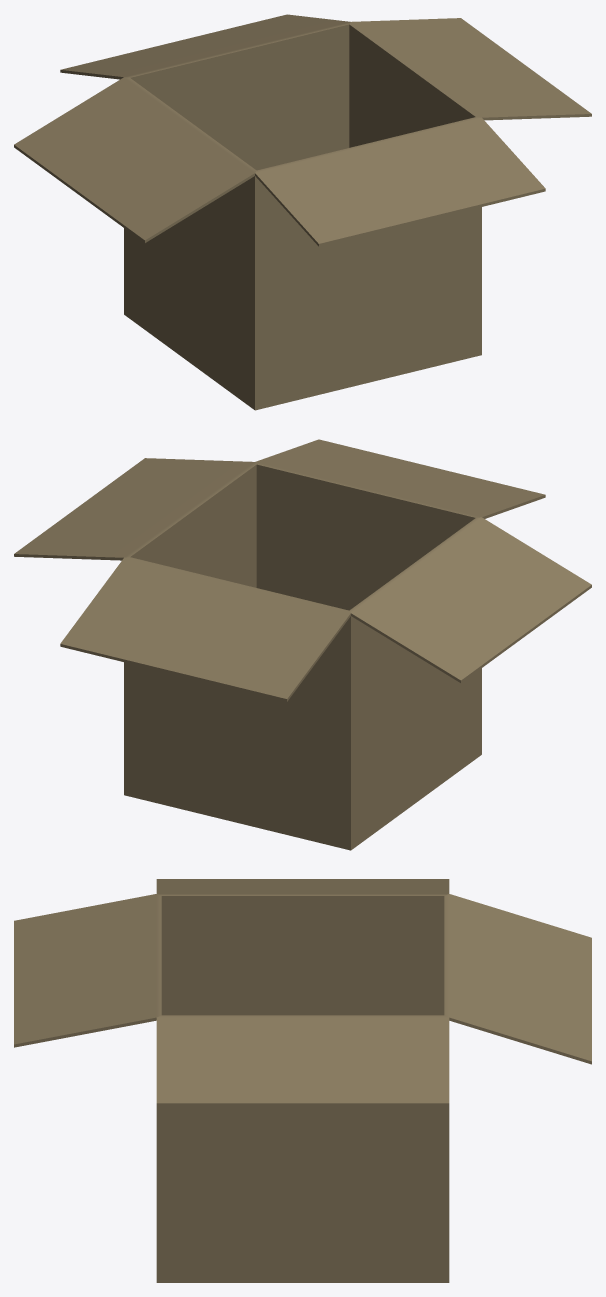
The picture shows the model from 3 angles, top to bottom: view 1: azimuth 30°, elevation 25°; view 2: azimuth 150°, elevation 25°; view 3: azimuth 270°, elevation 25°; orthographic projection. The views are drawn at different scales.
Visible parts, largest first — view 1: pCube1; view 2: pCube1; view 3: pCube1.
Boxes of the visible parts, x1,y1,x2,y2 form: pCube1: (14,14,591,410); pCube1: (14,439,591,850); pCube1: (14,879,591,1282).
Bounding box in the file's own units: 1.97 × 1 × 1.97.
